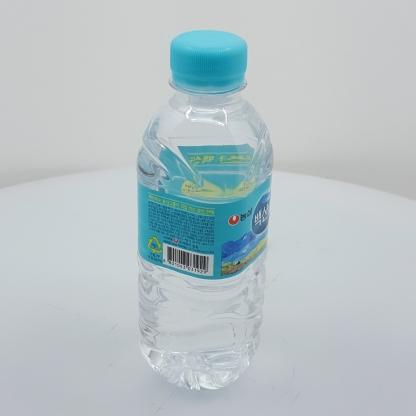-----330ML: (136, 30, 274, 391)
